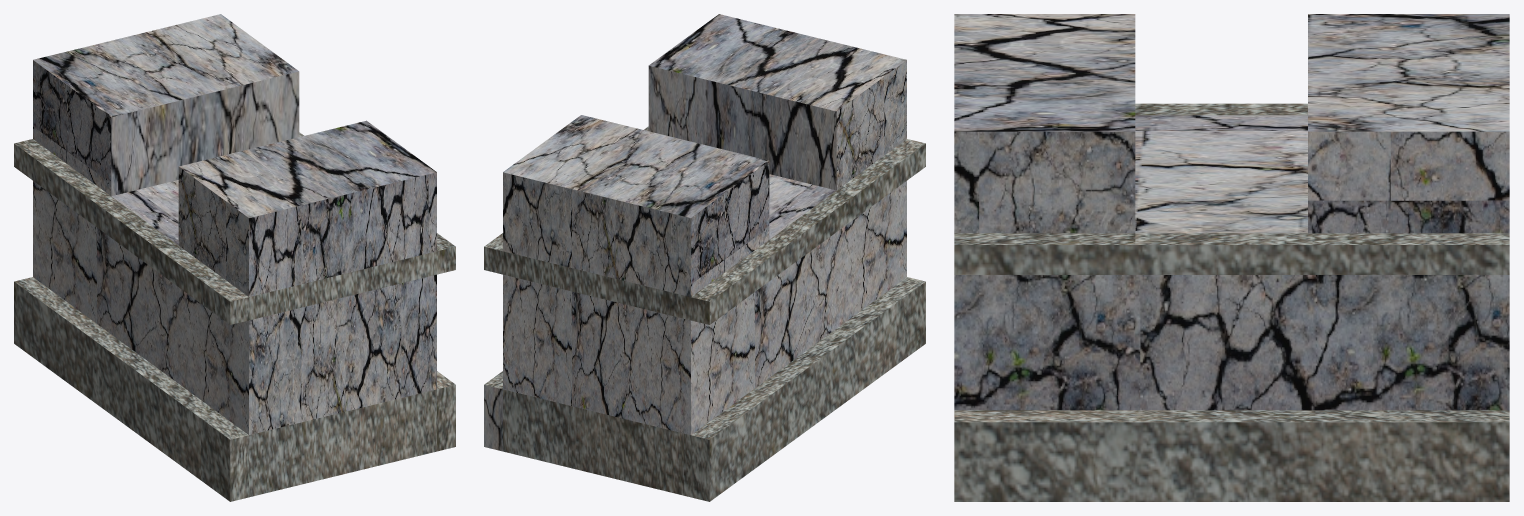
The model's file is Hittites_wall_onConstruction.fbx.
3 renders of one model, left to right at view 1: azimuth 30°, elevation 25°; view 2: azimuth 150°, elevation 25°; view 3: azimuth 270°, elevation 25°, orthographic. The views are drawn at different scales.
Visible parts, largest first — view 1: Cube; view 2: Cube; view 3: Cube.
Boxes of the visible parts, x1,y1,x2,y2 form: Cube: (14, 14, 455, 501); Cube: (484, 14, 925, 501); Cube: (954, 14, 1509, 501).
Bounding box in the file's own units: 264 × 312 × 438.
